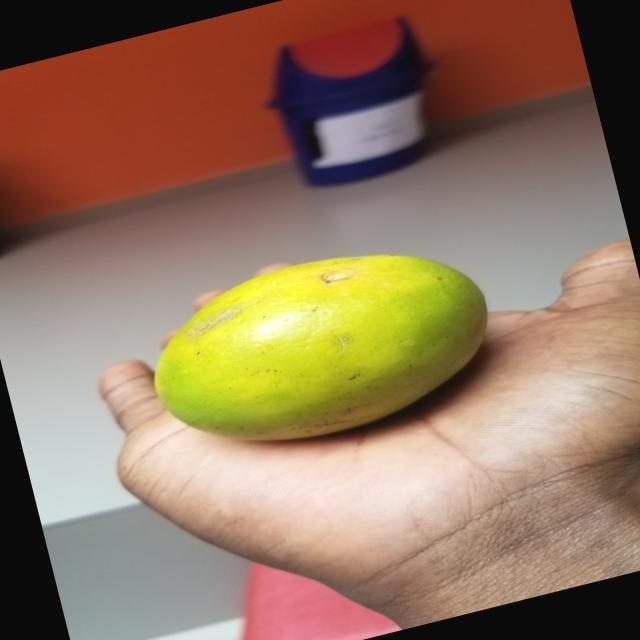agrume: (118, 183, 558, 480)
